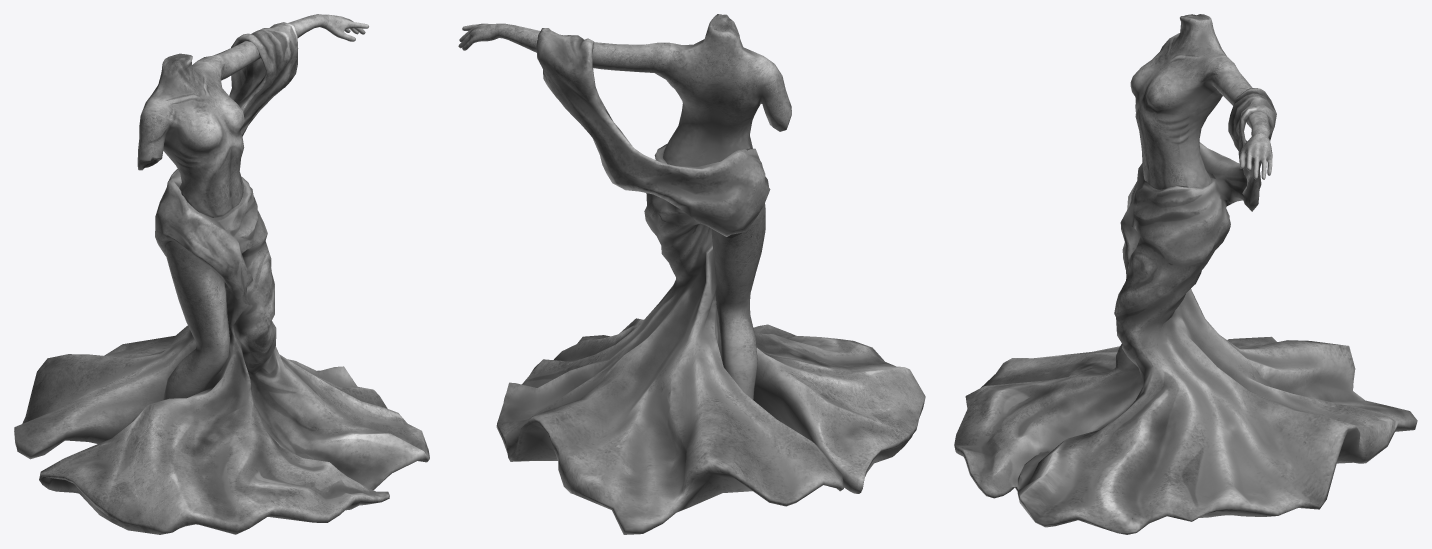
Rendered from Female Statue_01.FBX.
3 views of the same model, side by side, from view 1: azimuth 30°, elevation 25°; view 2: azimuth 150°, elevation 25°; view 3: azimuth 270°, elevation 25° (orthographic). The views are drawn at different scales.
Parts seen in each view (by area): view 1: Female Statue_01; view 2: Female Statue_01; view 3: Female Statue_01.
Boxes of the visible parts, left/top/right/bottom form: Female Statue_01: left=14, top=14, right=429, bottom=534; Female Statue_01: left=458, top=14, right=925, bottom=534; Female Statue_01: left=954, top=14, right=1417, bottom=534.
Bounding box in the file's own units: 193 × 213 × 207.
1 material, 1 textured.
